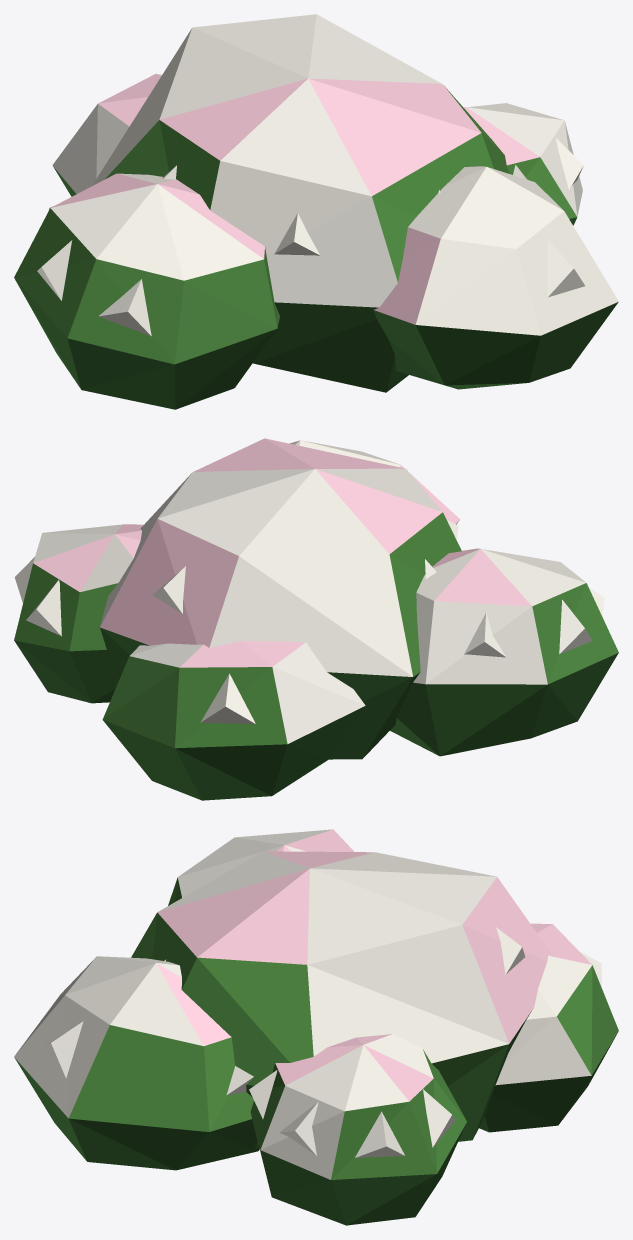
Rendered from bush_azalea_white.fbx.
3 views of the same model, one above another, from view 1: azimuth 30°, elevation 25°; view 2: azimuth 150°, elevation 25°; view 3: azimuth 270°, elevation 25° (orthographic). The views are drawn at different scales.
Visible parts, largest first — view 1: bush_azalea_white; view 2: bush_azalea_white; view 3: bush_azalea_white.
Boxes of the visible parts, x1,y1,x2,y2 form: bush_azalea_white: [14, 14, 618, 409]; bush_azalea_white: [14, 438, 618, 800]; bush_azalea_white: [14, 829, 618, 1225].
Size of the model in its own units: 2.06 by 0.9652 by 2.
